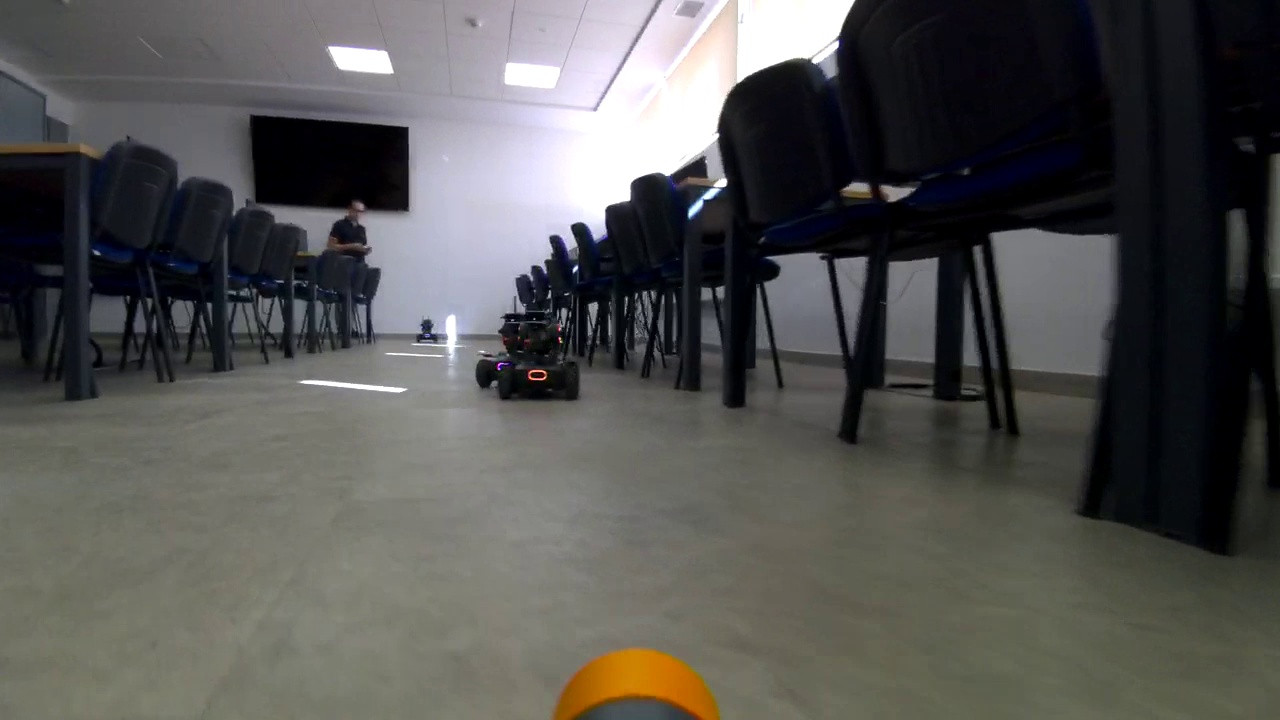robot: (505, 310, 586, 404)
